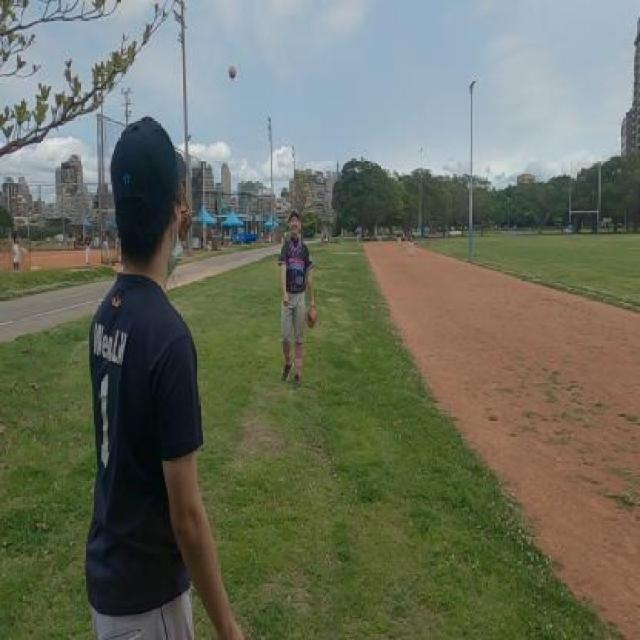baseball: (229, 66, 236, 80)
